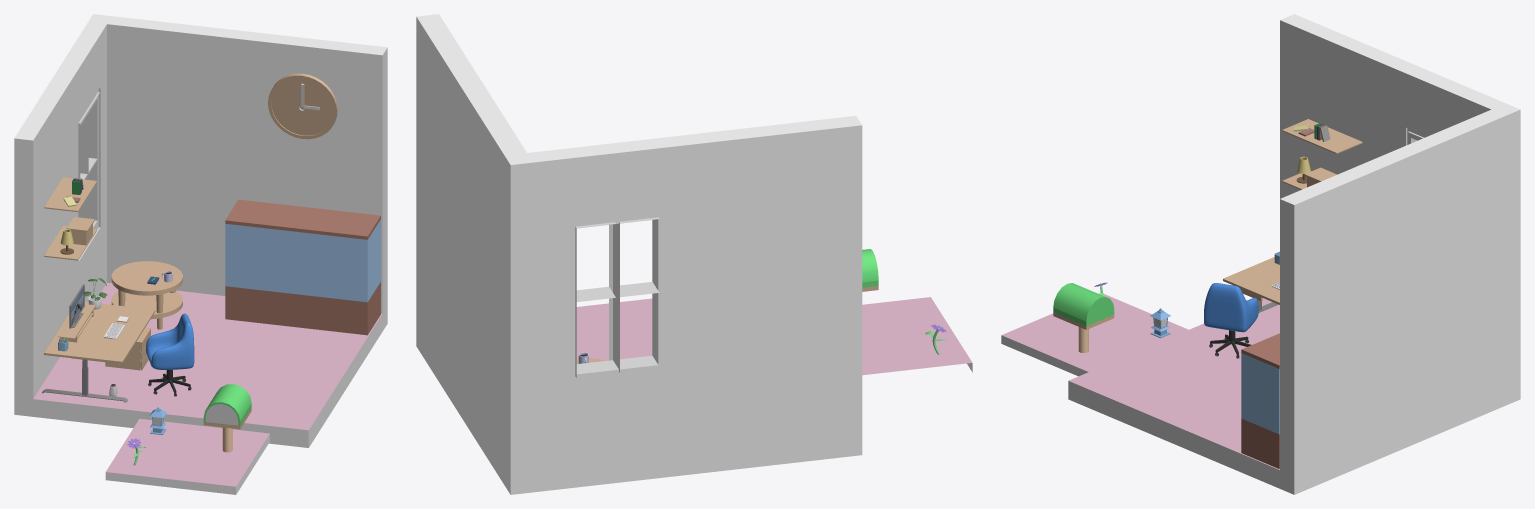
File: Room.glb
3 renders of one model, left to right at view 1: azimuth 30°, elevation 25°; view 2: azimuth 150°, elevation 25°; view 3: azimuth 270°, elevation 25°, orthographic. The views are drawn at different scales.
Parts seen in each view (by area): view 1: Room, AquaGlass, Fish Tank Base, Room.001, Base.002, TableTop, Cube.009, TableTop.004, Mailbox Base, WindowFrame, TableBottom.001, TableTop.002 (+4 smaller); view 2: Room, Room.001, WindowFrame, Mailbox Base; view 3: Room, Room.001, AquaGlass, Fish Tank Base, Cube.009, Mailbox Base, TableTop, TableTop.002.
Boxes of the visible parts, x1,y1,x2,y2 form: Room: (14, 14, 387, 447); AquaGlass: (225, 219, 380, 302); Fish Tank Base: (225, 199, 380, 335); Room.001: (105, 418, 269, 494); Base.002: (268, 73, 337, 139); TableTop: (44, 302, 155, 363); Cube.009: (146, 313, 194, 369); TableTop.004: (111, 261, 182, 295); Mailbox Base: (203, 384, 251, 429); WindowFrame: (78, 88, 100, 260); TableBottom.001: (111, 291, 182, 319); TableTop.002: (44, 177, 96, 211); Room: (416, 14, 862, 494); Room.001: (862, 297, 972, 375); WindowFrame: (575, 217, 659, 377); Mailbox Base: (862, 249, 878, 291); Room: (1068, 14, 1520, 494); Room.001: (1001, 294, 1188, 376); AquaGlass: (1241, 353, 1279, 434); Fish Tank Base: (1241, 333, 1279, 468); Cube.009: (1204, 283, 1258, 332); Mailbox Base: (1053, 283, 1114, 329); TableTop: (1223, 257, 1279, 304); TableTop.002: (1282, 119, 1362, 154).
Size of the model in its own units: 22.86 by 16.14 by 26.2.
Materials: 47 (1 with a texture image).
